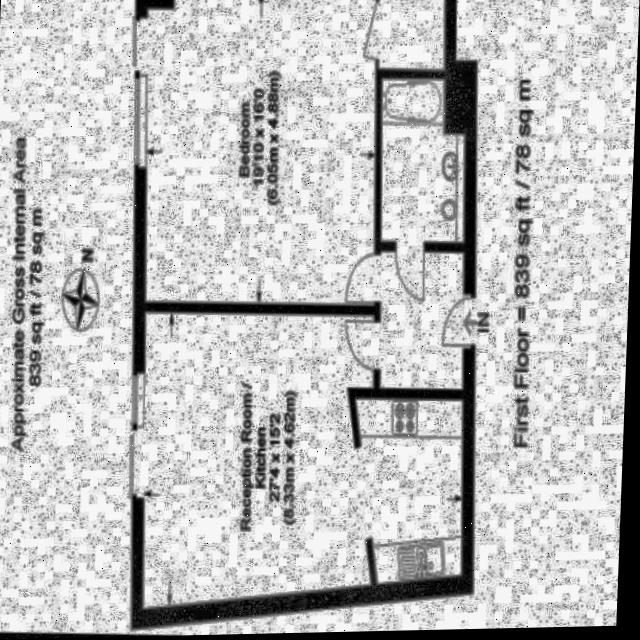room: (140, 0, 448, 307), (142, 316, 376, 614), (356, 391, 481, 585), (382, 80, 469, 245), (380, 253, 466, 392)
